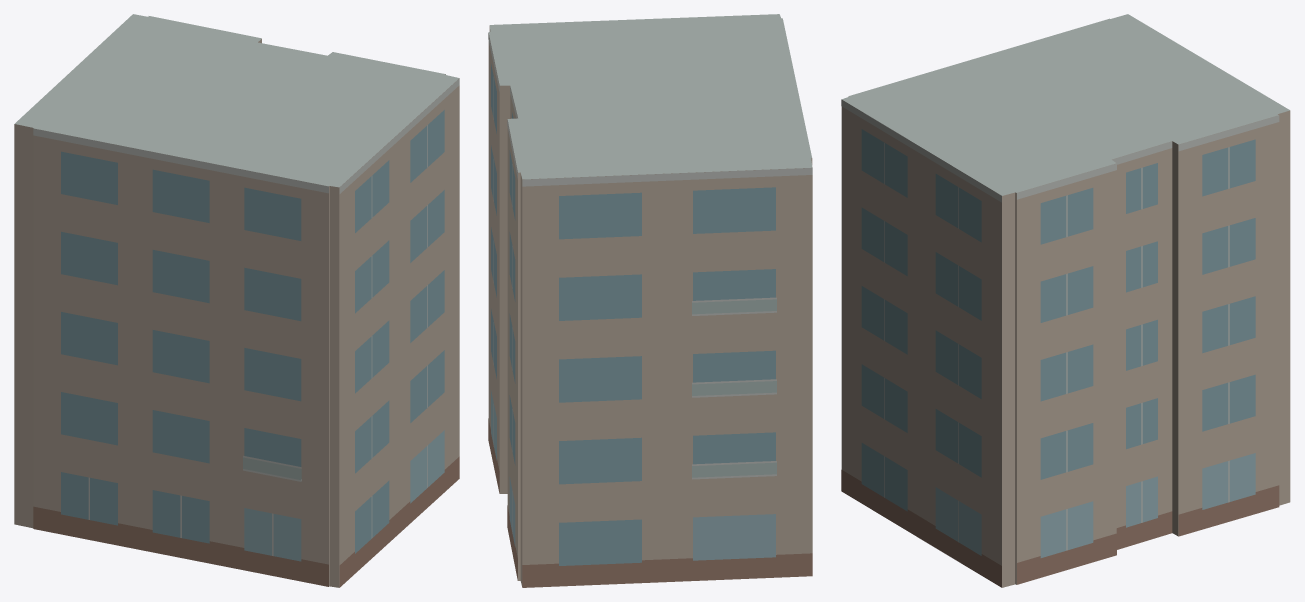
Rendered from survey-upis-32681669.glb.
3 views of the same model, side by side, from view 1: azimuth 30°, elevation 25°; view 2: azimuth 150°, elevation 25°; view 3: azimuth 270°, elevation 25° (orthographic). The views are drawn at different scales.
Parts seen in each view (by area): view 1: survey-upis-32681669.tmp; view 2: survey-upis-32681669.tmp; view 3: survey-upis-32681669.tmp.
Boxes of the visible parts, left/top/right/bottom form: survey-upis-32681669.tmp: left=14, top=14, right=459, bottom=587; survey-upis-32681669.tmp: left=488, top=14, right=812, bottom=587; survey-upis-32681669.tmp: left=841, top=14, right=1290, bottom=587.
Bounding box in the file's own units: 13.84 × 13.9 × 14.43.
